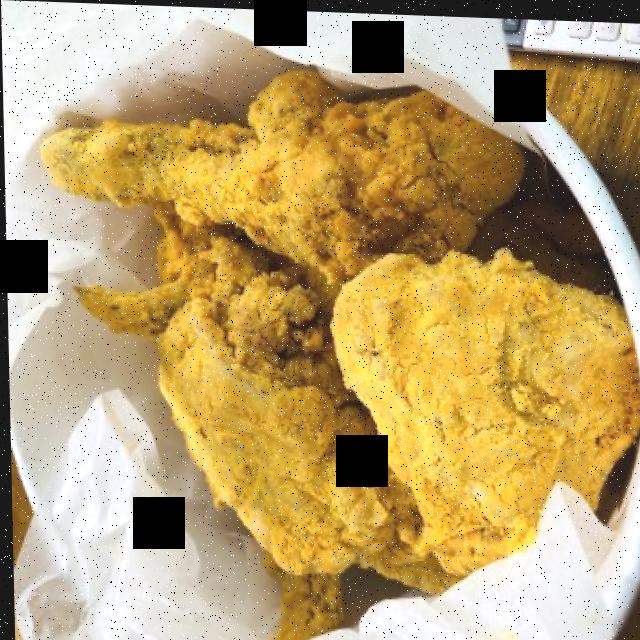Frango: (20, 59, 640, 624)
